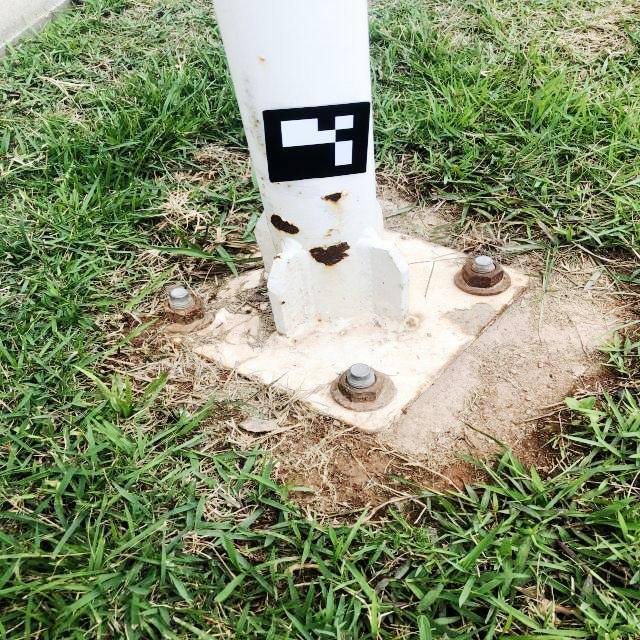Corrosion: (442, 274, 532, 340), (400, 339, 474, 413), (326, 366, 398, 411), (454, 259, 512, 296), (165, 296, 215, 333), (309, 241, 351, 267), (338, 415, 395, 434), (270, 213, 300, 235), (194, 351, 227, 367), (322, 191, 348, 205), (403, 312, 421, 329), (300, 398, 317, 408), (252, 110, 260, 129), (276, 329, 290, 339), (324, 228, 334, 237), (259, 55, 266, 62), (273, 255, 281, 261), (252, 374, 259, 379), (238, 371, 245, 376), (515, 278, 523, 282), (280, 301, 285, 305), (293, 339, 298, 343), (318, 319, 321, 322), (390, 256, 393, 259), (402, 286, 404, 290)
